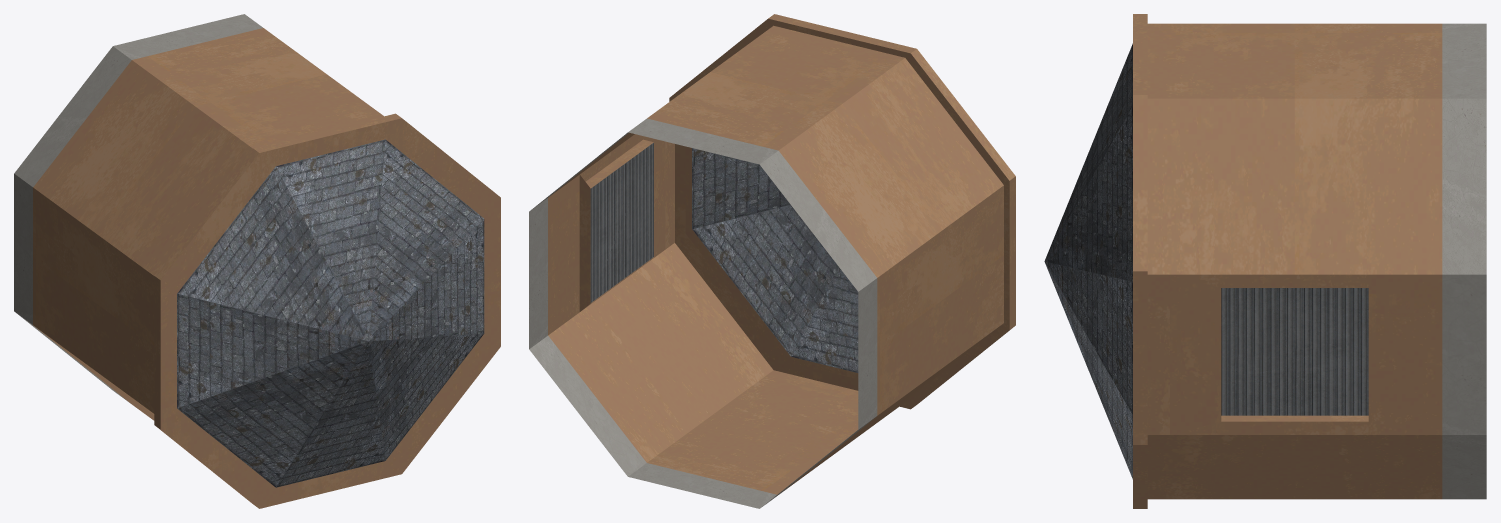
The model's file is nt_2020_vista_kiosk_04_brown_LOD0.obj.
3 views of the same model, side by side, from view 1: azimuth 30°, elevation 25°; view 2: azimuth 150°, elevation 25°; view 3: azimuth 270°, elevation 25° (orthographic). The views are drawn at different scales.
Parts seen in each view (by area): view 1: plaster_interiorwall_paint_brown, mp_b_art_roof_brick_slate01, al_muntaha_concrete; view 2: plaster_interiorwall_paint_brown, mp_b_art_roof_brick_slate01, al_muntaha_concrete, me_door_rollup1; view 3: plaster_interiorwall_paint_brown, al_muntaha_concrete, mp_b_art_roof_brick_slate01, me_door_rollup1.
Boxes of the visible parts, left/top/right/bottom form: plaster_interiorwall_paint_brown: left=33, top=28, right=500, bottom=508; mp_b_art_roof_brick_slate01: left=177, top=139, right=484, bottom=487; al_muntaha_concrete: left=14, top=14, right=262, bottom=403; plaster_interiorwall_paint_brown: left=548, top=14, right=1015, bottom=494; mp_b_art_roof_brick_slate01: left=692, top=148, right=858, bottom=372; al_muntaha_concrete: left=529, top=118, right=877, bottom=508; me_door_rollup1: left=590, top=142, right=653, bottom=302; plaster_interiorwall_paint_brown: left=1133, top=14, right=1442, bottom=508; al_muntaha_concrete: left=1442, top=23, right=1486, bottom=499; mp_b_art_roof_brick_slate01: left=1044, top=43, right=1132, bottom=479; me_door_rollup1: left=1221, top=288, right=1368, bottom=415.
Bounding box in the file's own units: 630 × 630 × 610.
